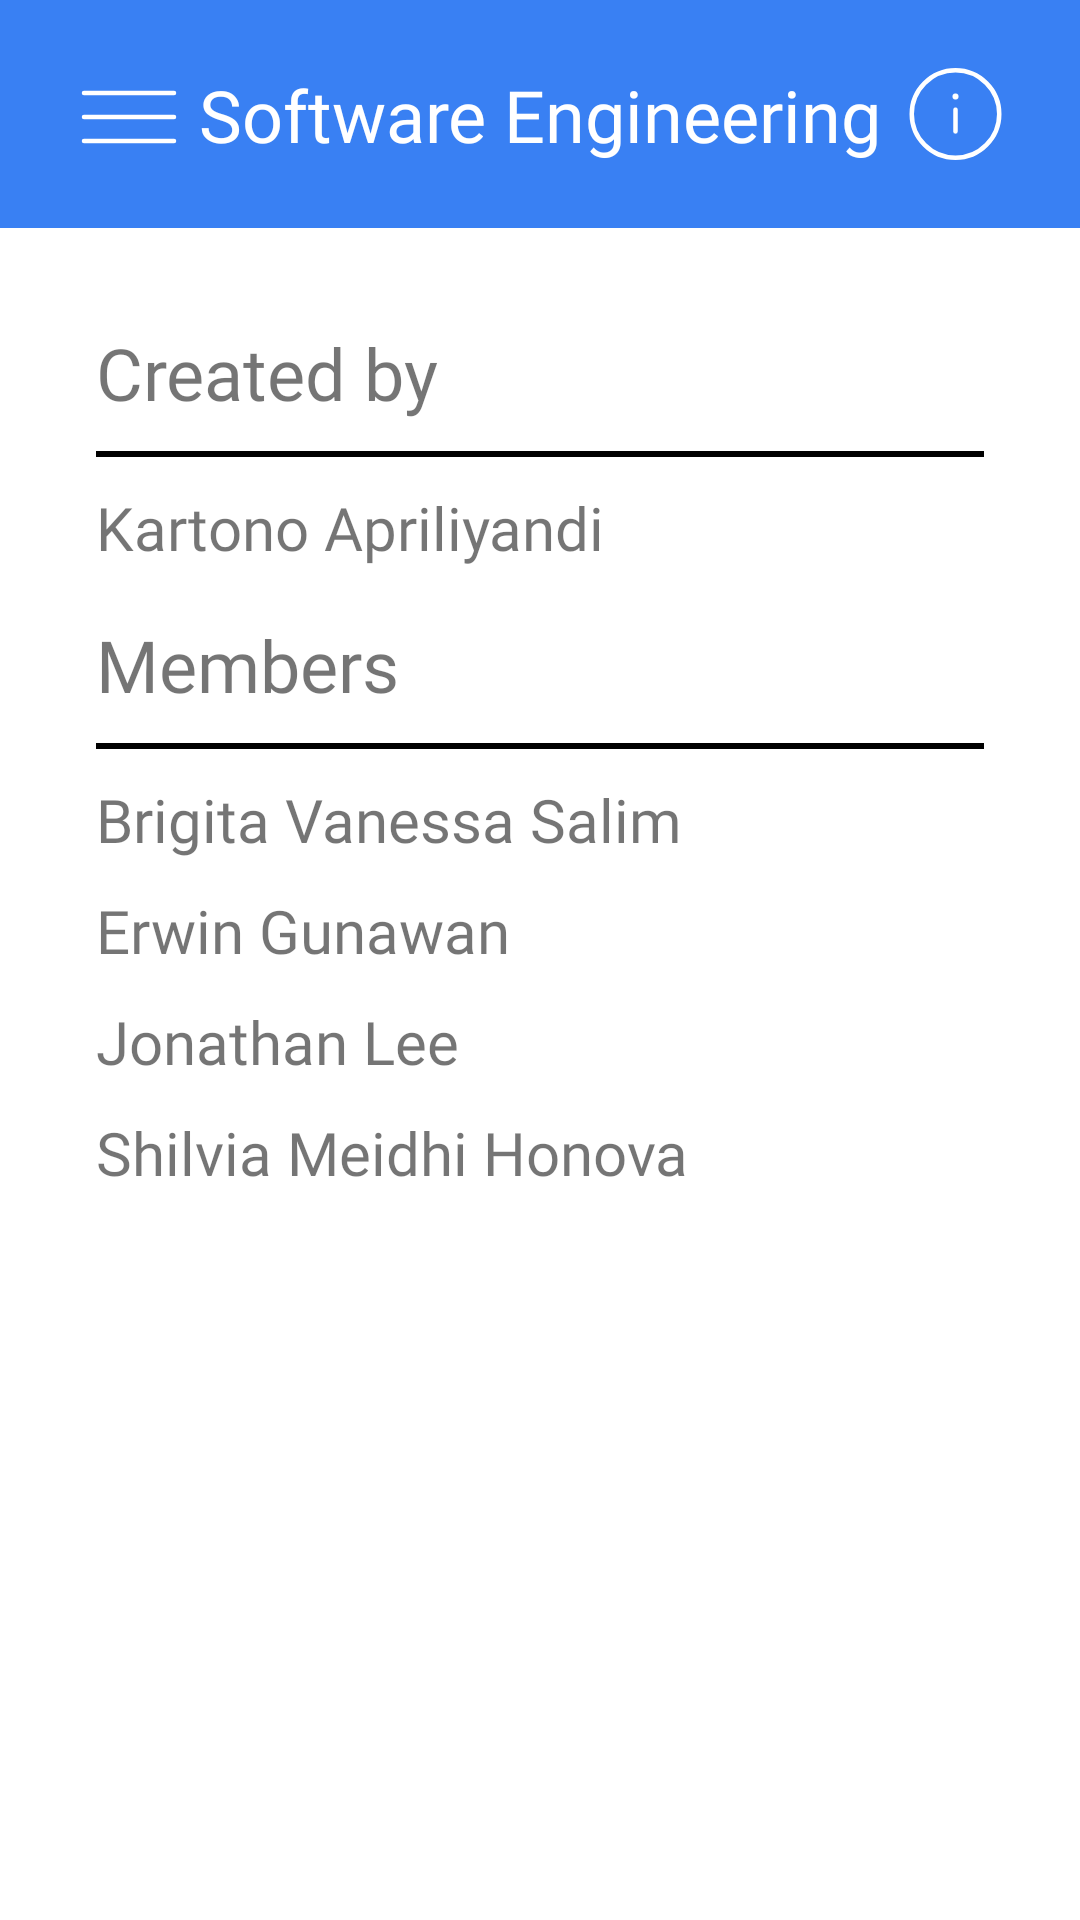

Locate icon controls on the screen. Image size 1080×1920, boxes as (x1, y1, x2, y2).
menu: (82, 90, 176, 144)
